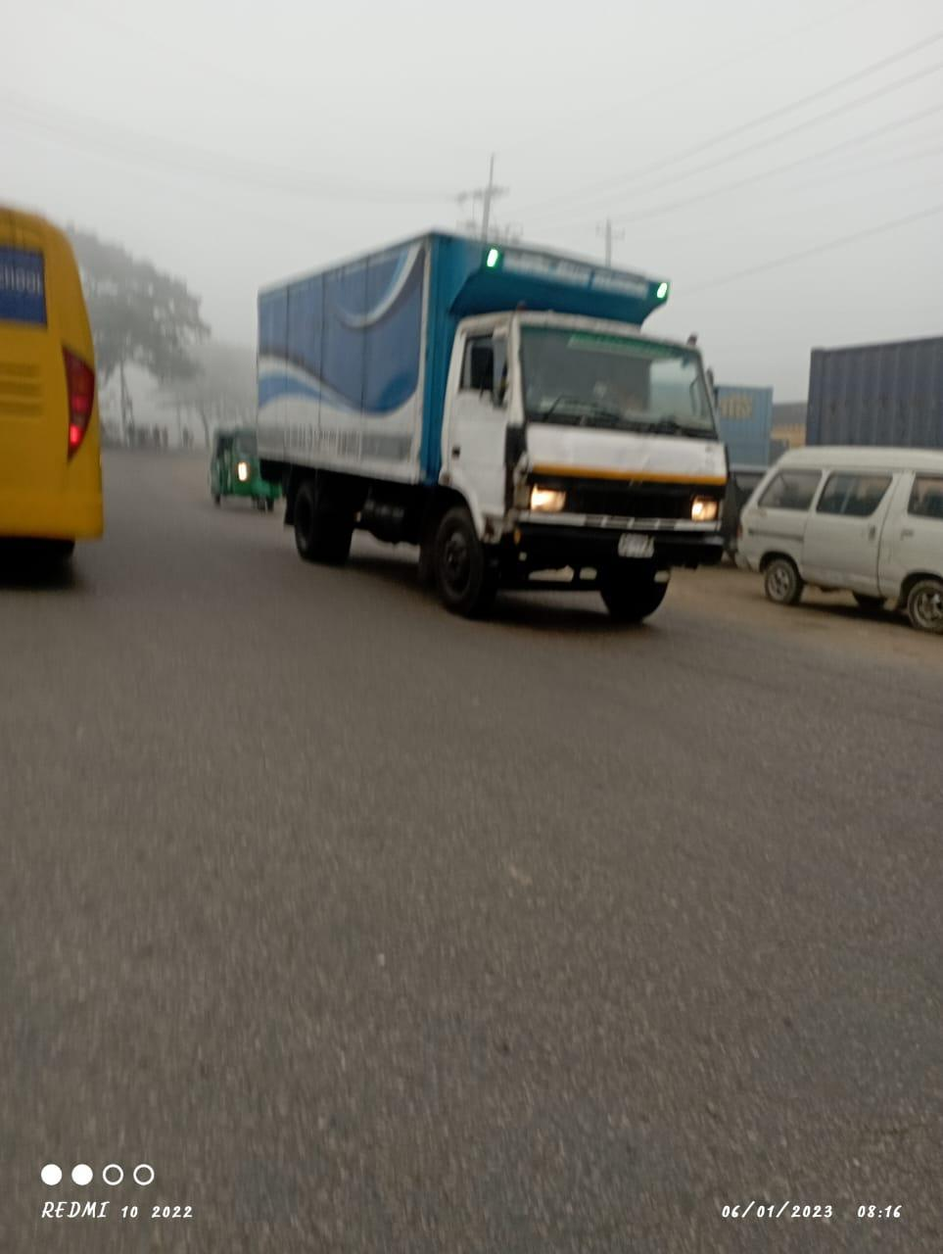Bus: (2, 189, 130, 576)
Car: (236, 227, 738, 607), (734, 438, 943, 635)
